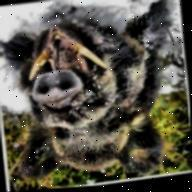boar: (25, 0, 192, 188)
